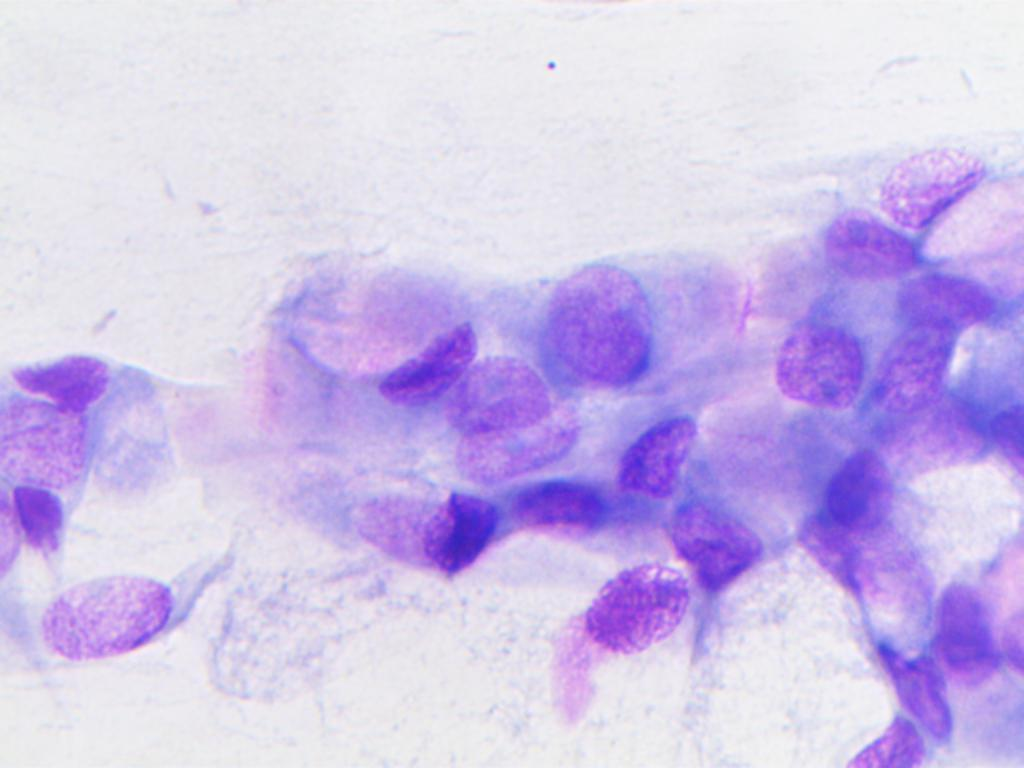epithelial: (547, 243, 742, 394), (888, 283, 1024, 429), (25, 551, 188, 663), (757, 303, 872, 430), (584, 556, 692, 670), (800, 429, 924, 522), (453, 407, 592, 488), (447, 346, 561, 437), (813, 201, 921, 294), (0, 344, 128, 412), (943, 557, 1004, 680)
goblet_cell: (651, 483, 889, 736), (251, 230, 486, 429), (612, 404, 880, 511), (827, 542, 957, 732), (859, 143, 1024, 283)
metaplastic: (419, 486, 502, 576)
